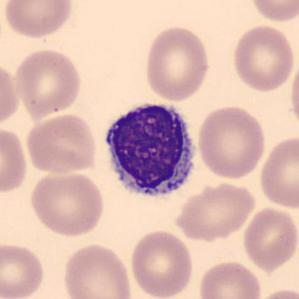Lymphocyte: (97, 96, 203, 206)
RBC: (26, 168, 106, 238), (195, 104, 268, 180), (142, 24, 212, 102), (12, 46, 84, 120), (172, 180, 257, 242), (23, 111, 100, 176), (230, 22, 297, 93), (128, 228, 195, 299), (60, 241, 134, 299), (240, 204, 298, 272), (257, 132, 298, 211), (2, 0, 75, 40), (196, 258, 264, 299), (0, 240, 46, 299), (0, 124, 30, 196), (0, 59, 21, 130), (247, 0, 298, 24), (287, 53, 299, 132), (254, 286, 298, 299)
